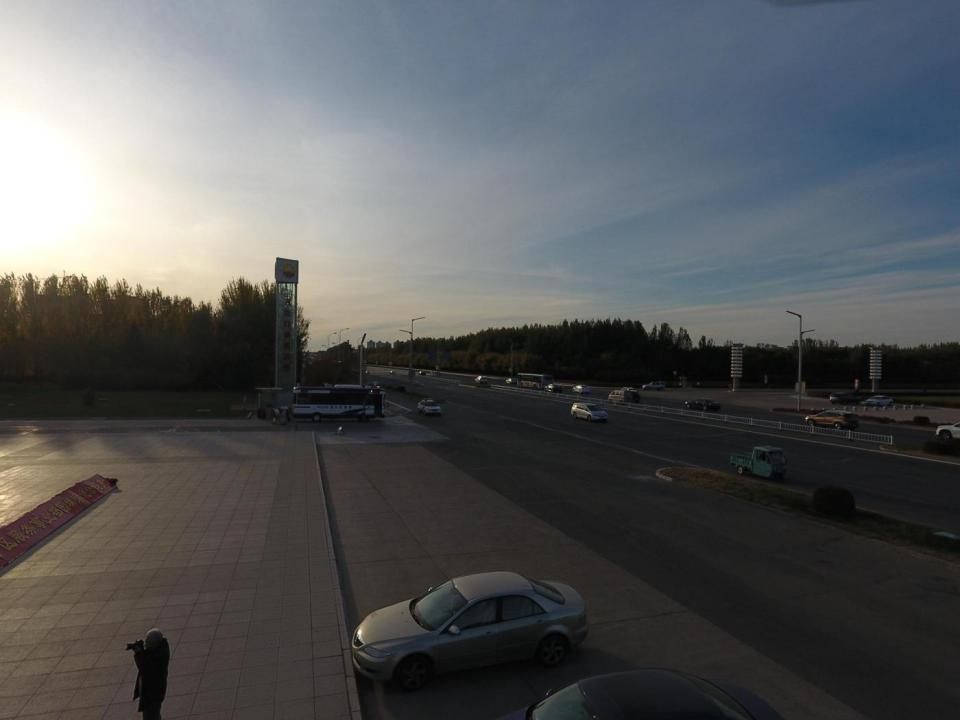bus: (292, 381, 390, 423), (515, 372, 553, 389)
car: (350, 569, 590, 693), (483, 668, 788, 720), (804, 410, 859, 432), (570, 402, 609, 422), (935, 418, 960, 442), (684, 397, 721, 411), (417, 397, 442, 416), (864, 395, 893, 408), (616, 388, 640, 402), (642, 380, 666, 391), (544, 383, 563, 394), (571, 384, 591, 394), (474, 375, 488, 384), (505, 377, 518, 384), (417, 371, 426, 376), (389, 370, 396, 375), (364, 370, 371, 375)
van: (829, 390, 862, 405), (607, 389, 633, 404)
